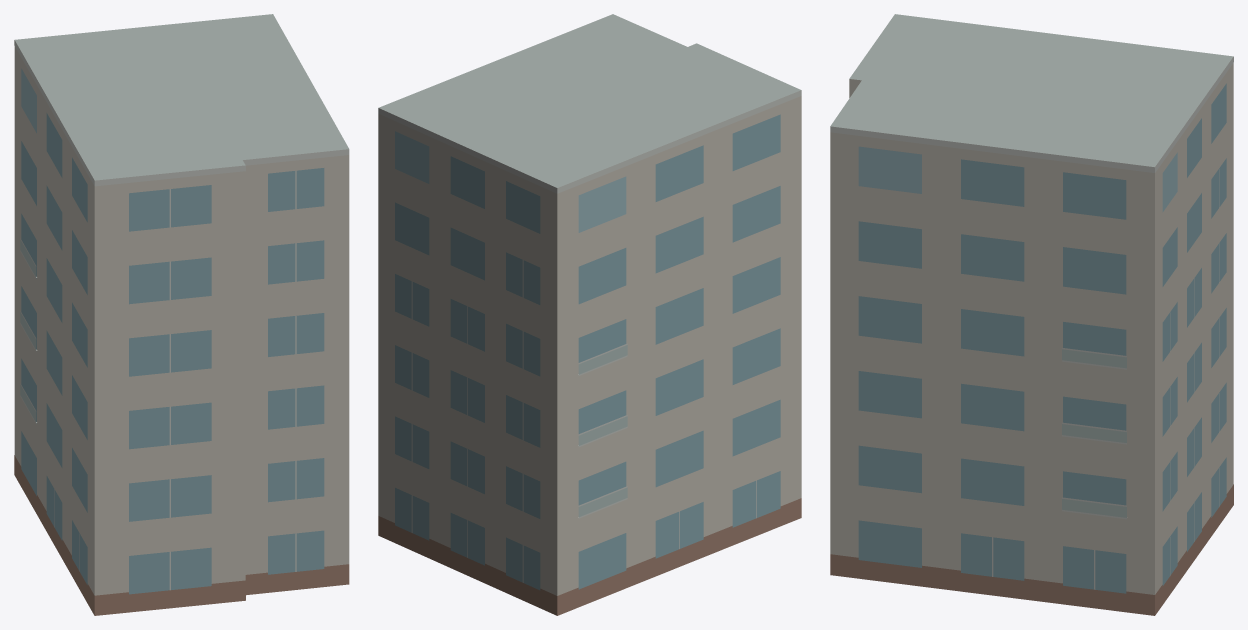
Rendered from survey-upis-32872754.glb.
The picture shows the model from 3 angles, left to right: view 1: azimuth 30°, elevation 25°; view 2: azimuth 150°, elevation 25°; view 3: azimuth 270°, elevation 25°; orthographic projection. The views are drawn at different scales.
Visible parts, largest first — view 1: survey-upis-32872754.tmp; view 2: survey-upis-32872754.tmp; view 3: survey-upis-32872754.tmp.
Boxes of the visible parts, x1,y1,x2,y2 form: survey-upis-32872754.tmp: (14, 14, 349, 615); survey-upis-32872754.tmp: (378, 14, 801, 615); survey-upis-32872754.tmp: (830, 14, 1233, 615).
Bounding box in the file's own units: 13.41 × 18.3 × 14.92.
